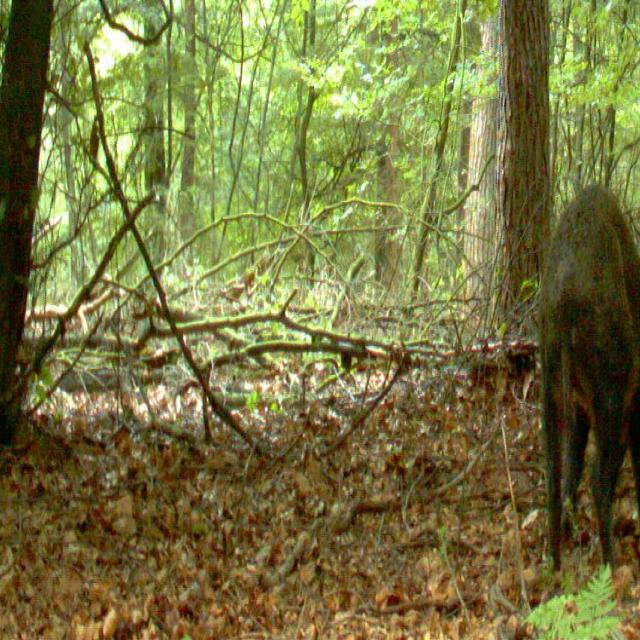pig: (531, 172, 640, 553)
